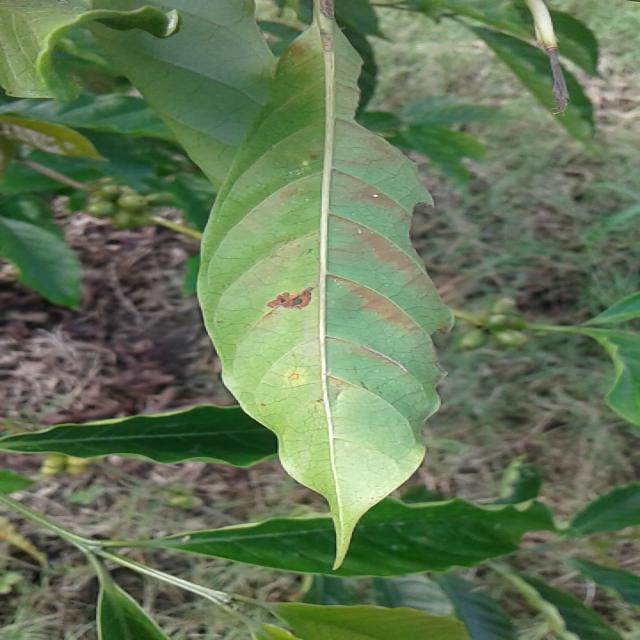Plaga-AranaRoja: (169, 54, 452, 566)
